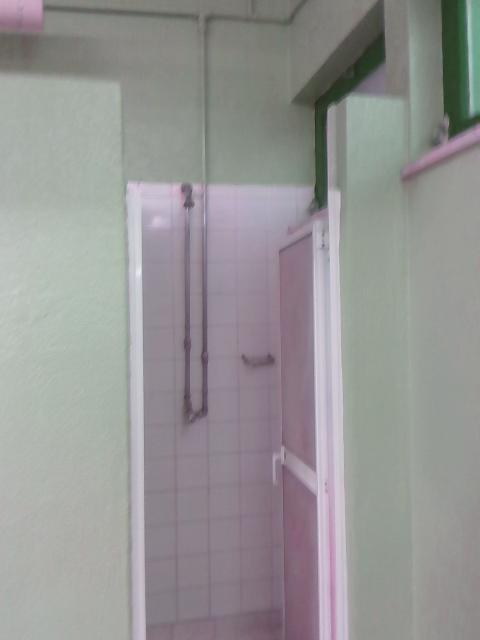open_door: (124, 182, 350, 639)
